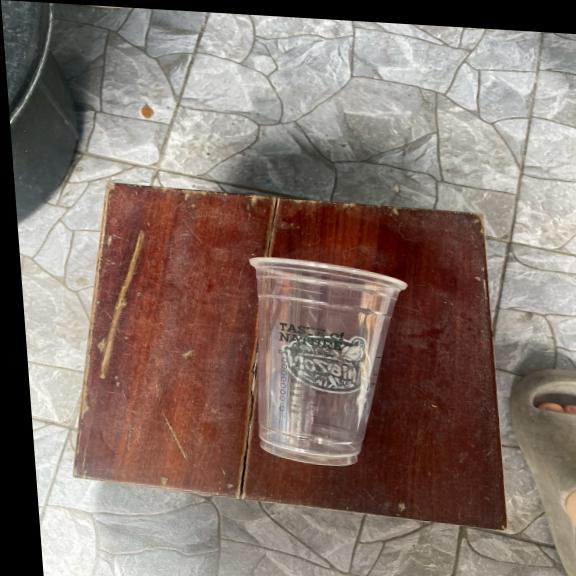Plastik: (249, 258, 406, 465)
